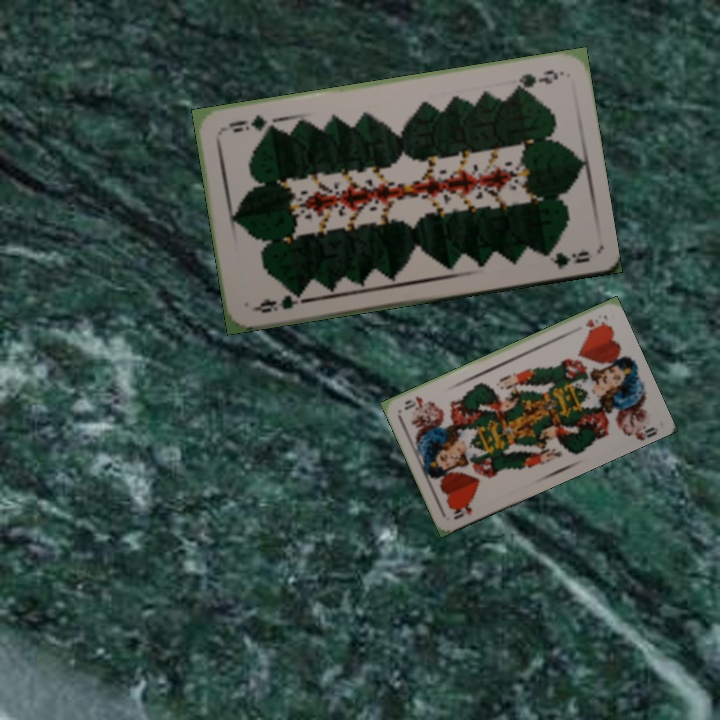G9: (249, 287, 307, 316), (510, 65, 564, 92)
HO: (448, 497, 476, 522), (582, 315, 608, 333)
